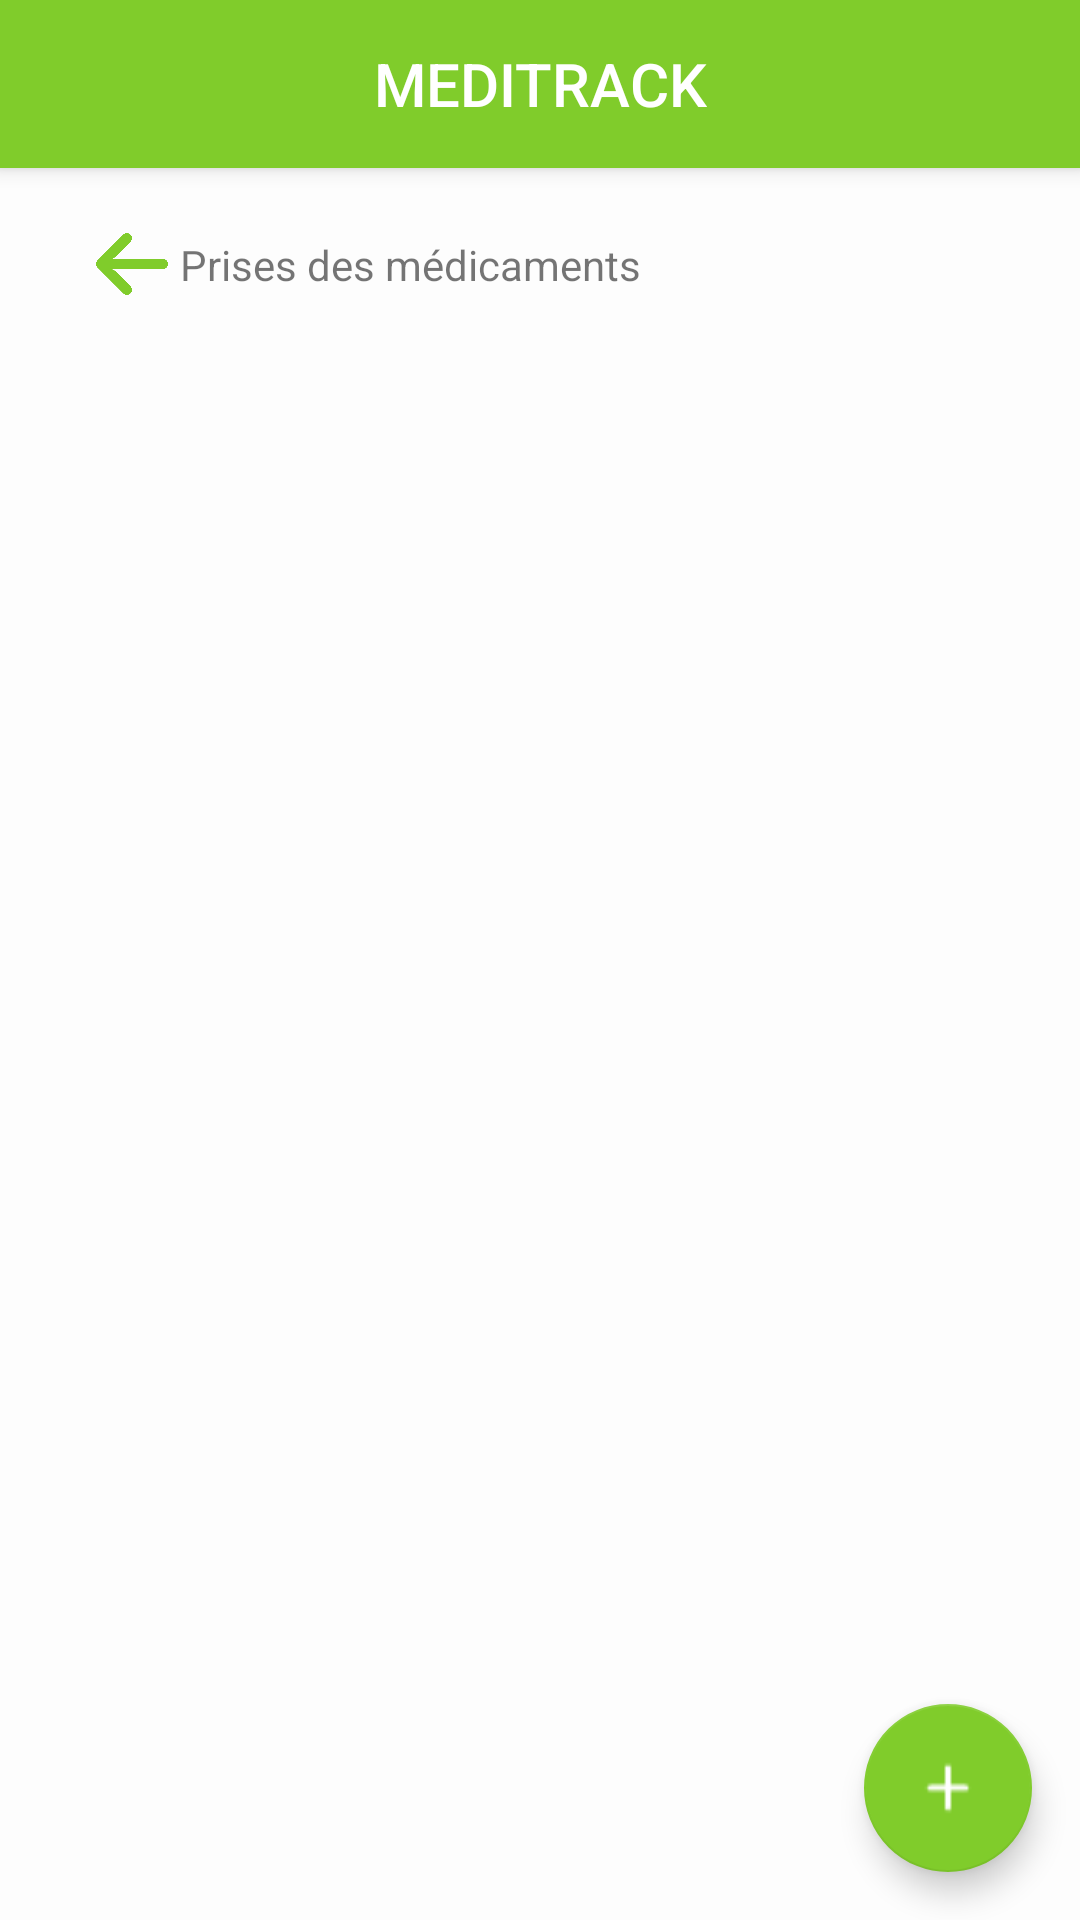

Where icons sit on this 1080w x 1920h app screen, as (x1, y1, x2, y2):
arrow: (96, 233, 168, 295)
plus: (864, 1704, 1032, 1872)
